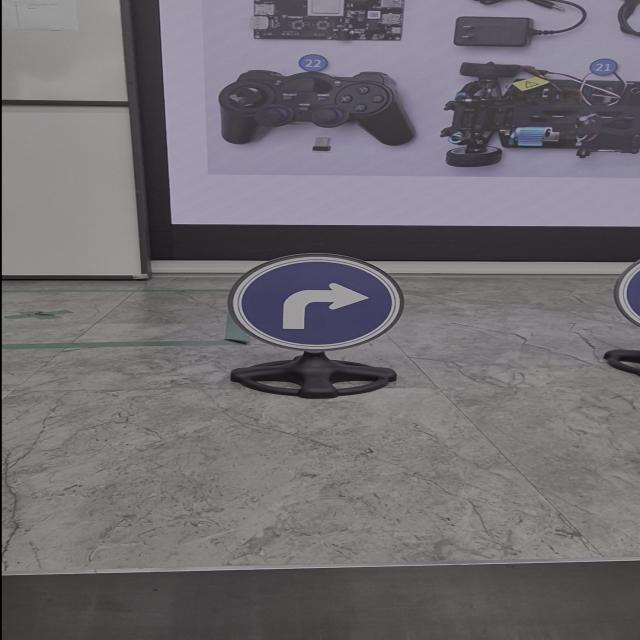right_dierection: (190, 240, 437, 362)
